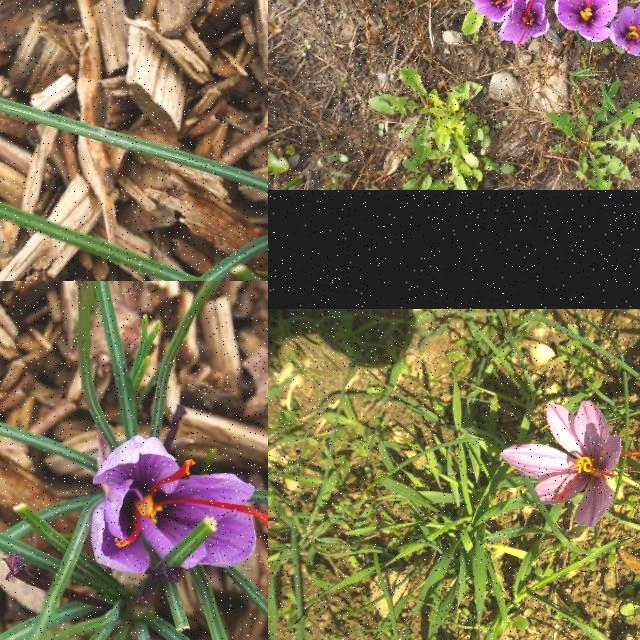flower: (92, 437, 268, 573), (500, 401, 640, 527), (555, 0, 619, 43), (497, 0, 549, 49), (610, 0, 640, 59), (462, 0, 518, 23)
